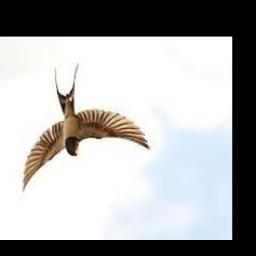Swallow: (22, 63, 149, 192)
